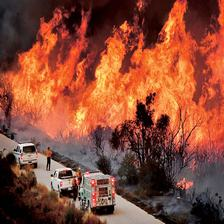fire: (8, 15, 222, 154)
